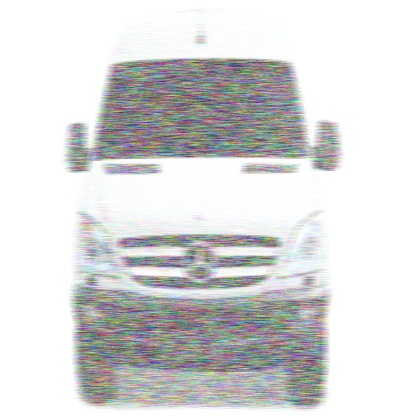Vehicle: (63, 1, 343, 412)
